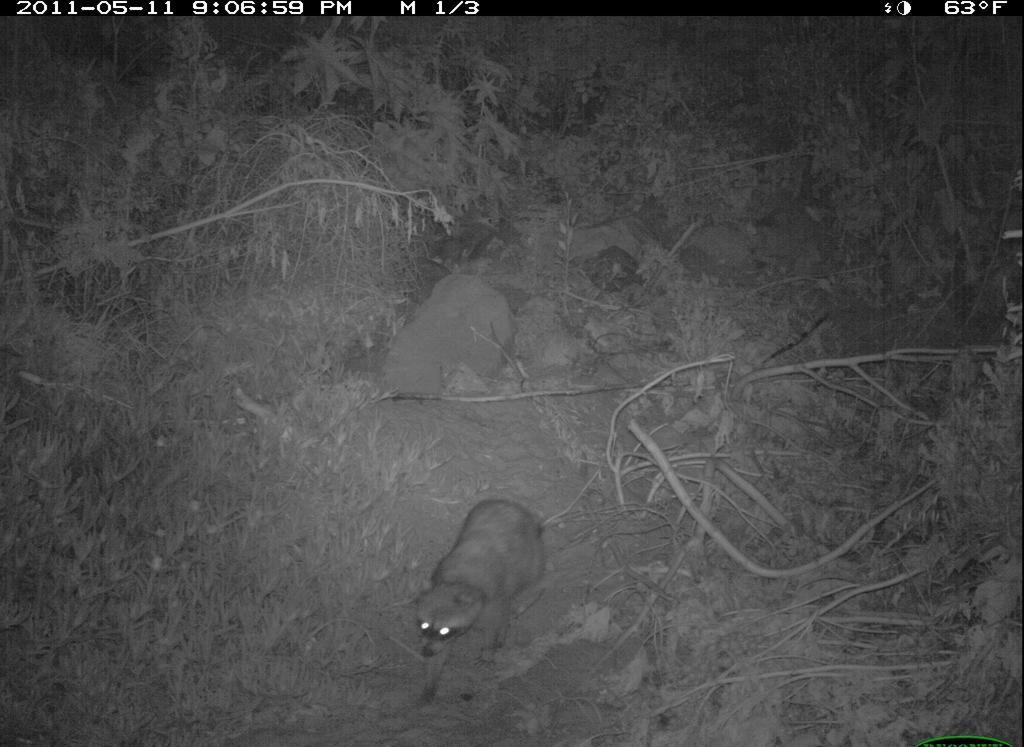raccoon: (402, 489, 553, 716)
